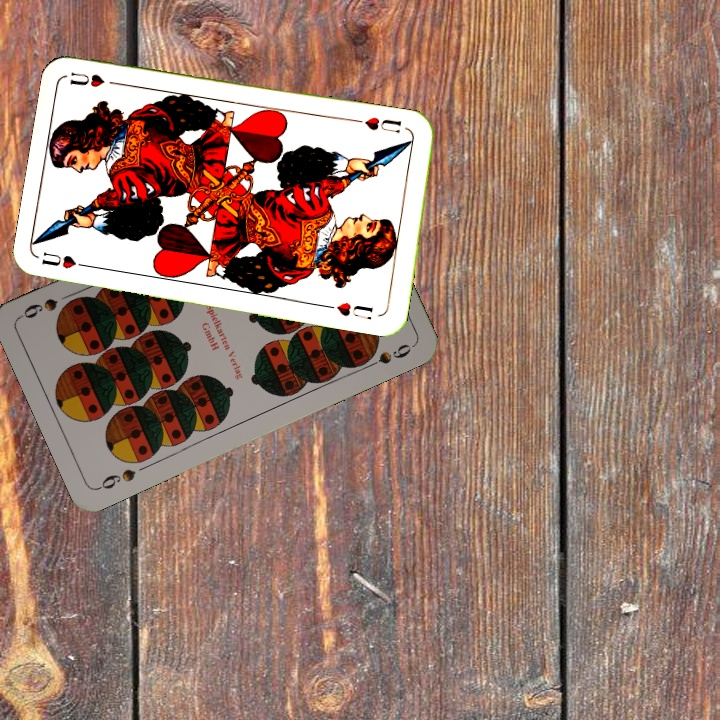HU: (38, 248, 95, 271), (361, 113, 404, 136)
S9: (93, 464, 138, 493)
